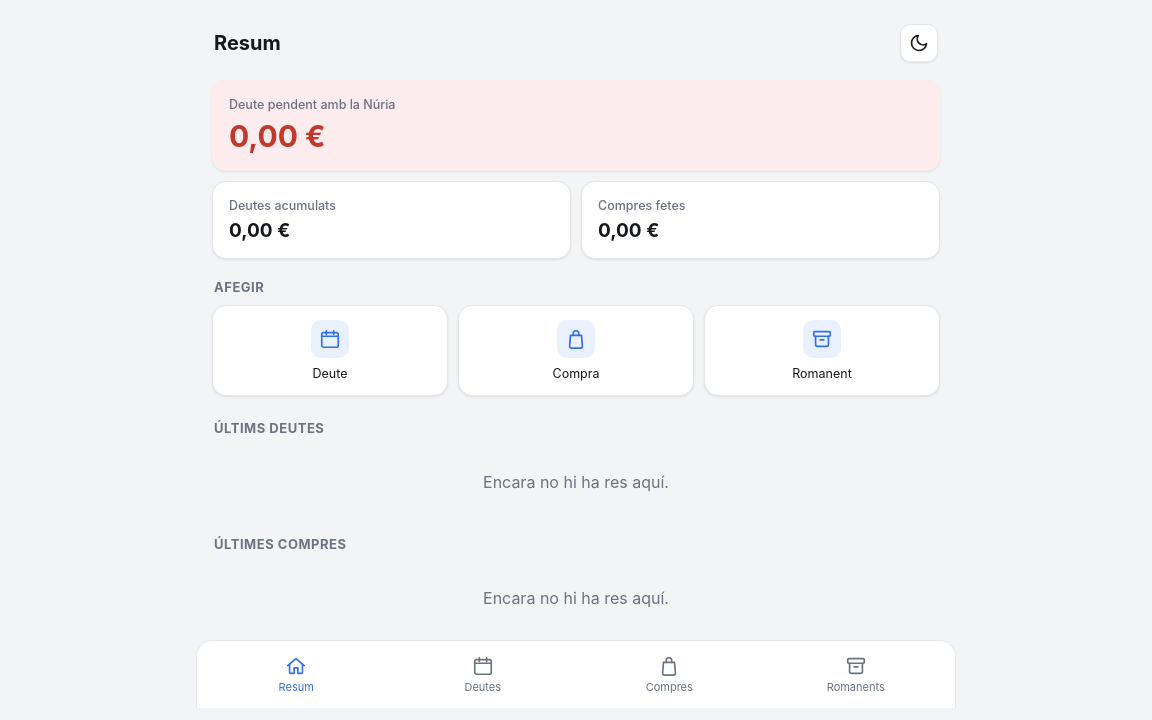
it: App (integració) › afegeix un deute des del botó gran, en blanc per defecte, i tanca el modal en desar
This screenshot has width=1152, height=720.
Expected: the text "Deutes" is shown, [464, 680, 501, 694]
Click the button "Deutes": (483, 674) [390, 649, 576, 700]
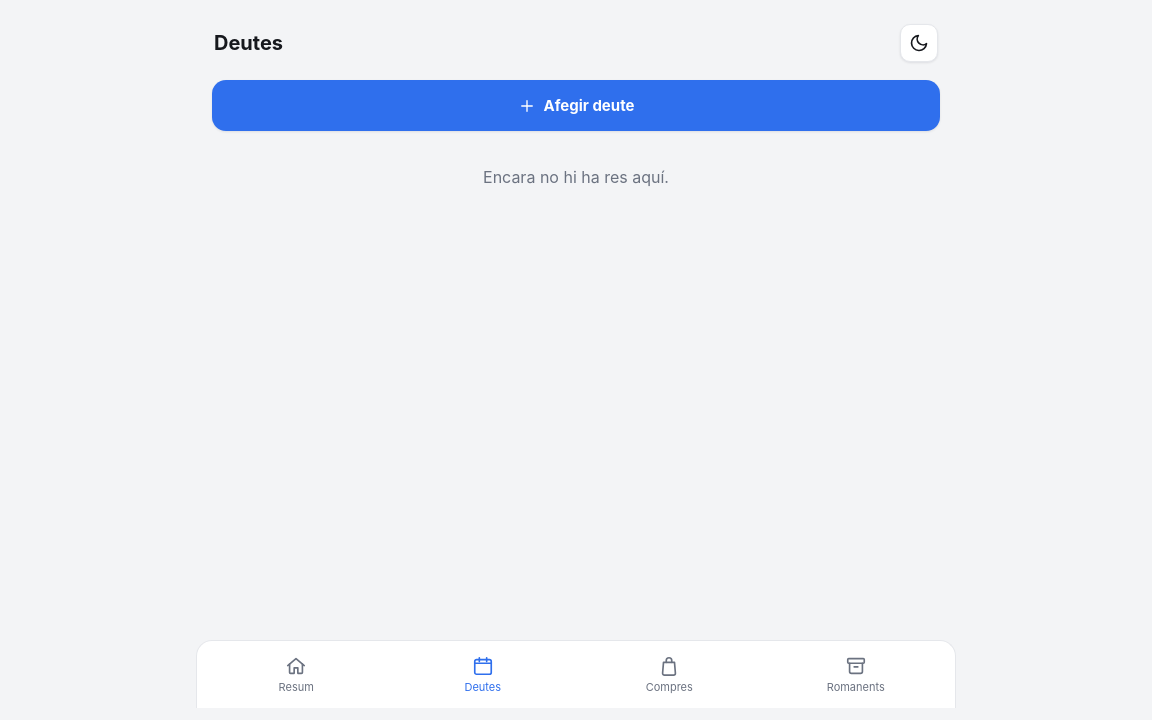
Click the button "Afegir deute": (576, 106) [212, 80, 940, 131]
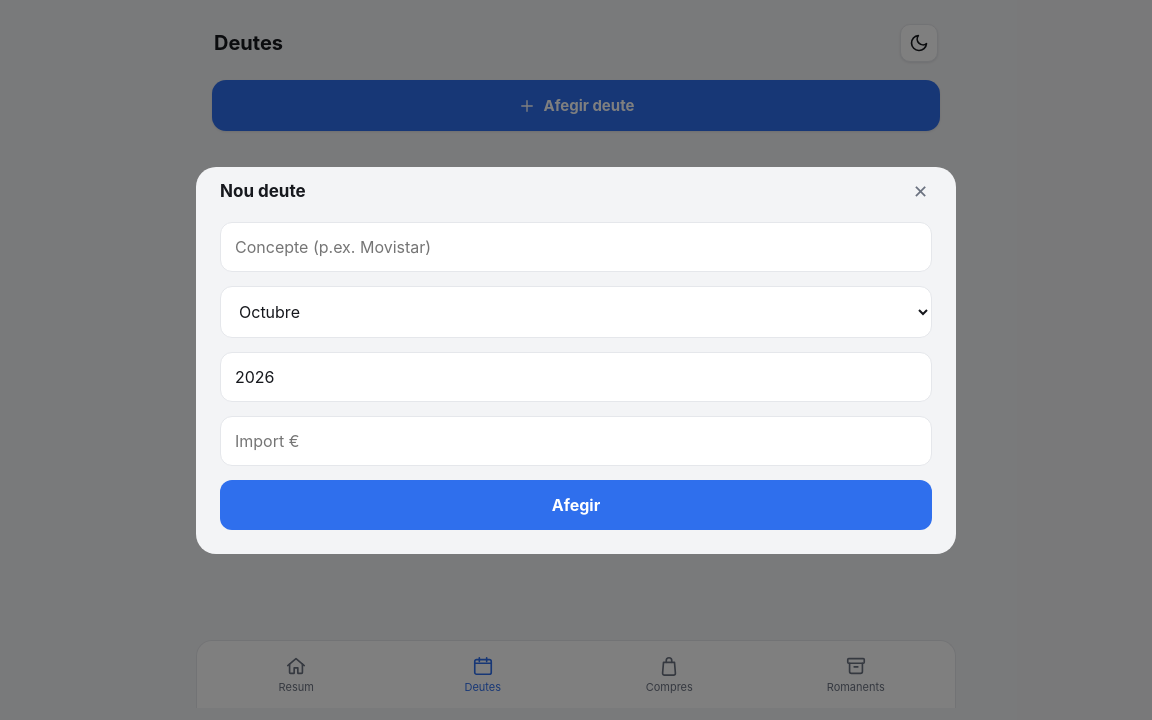
Result: the dialog "Nou deute" is shown at [196, 166, 956, 554]
Result: the field with placeholder "Concepte (p.ex. Movistar)" is empty
Result: the number field with placeholder "Import €" is not empty at [220, 416, 932, 466]
In the field with placeholder "Concepte (p.ex. Movistar)": (576, 246) [220, 222, 932, 272], type "Movistar"
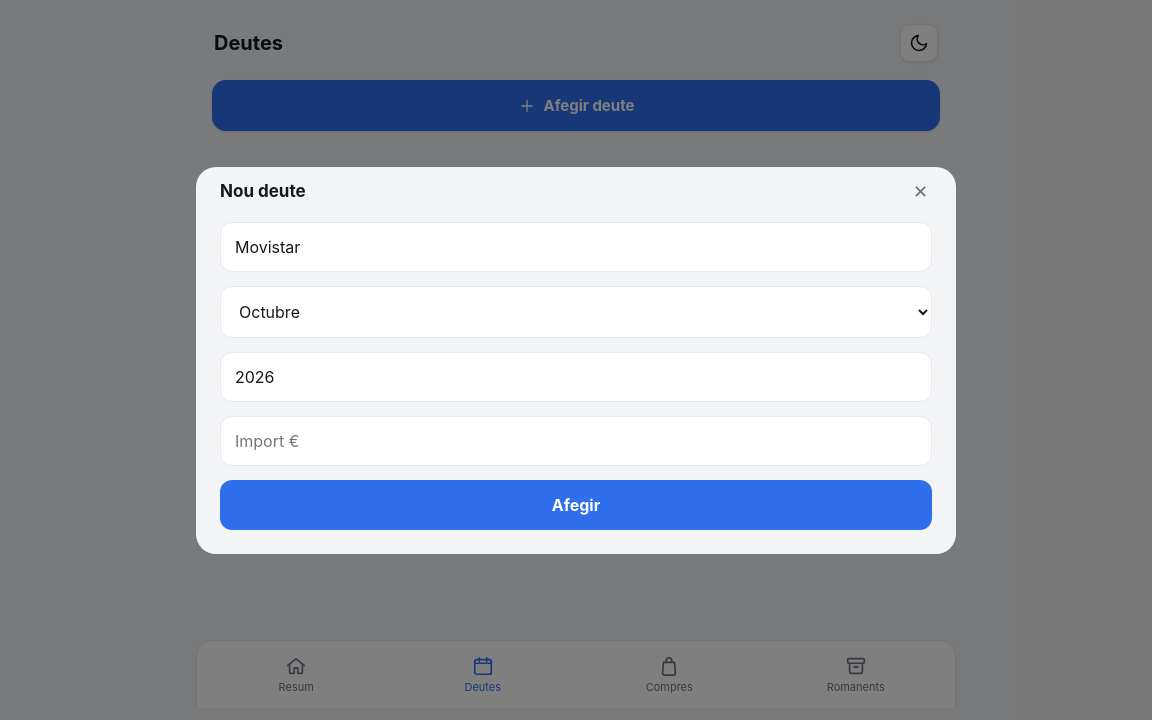
In the number field with placeholder "Import €": (576, 440) [220, 416, 932, 466], type "24"
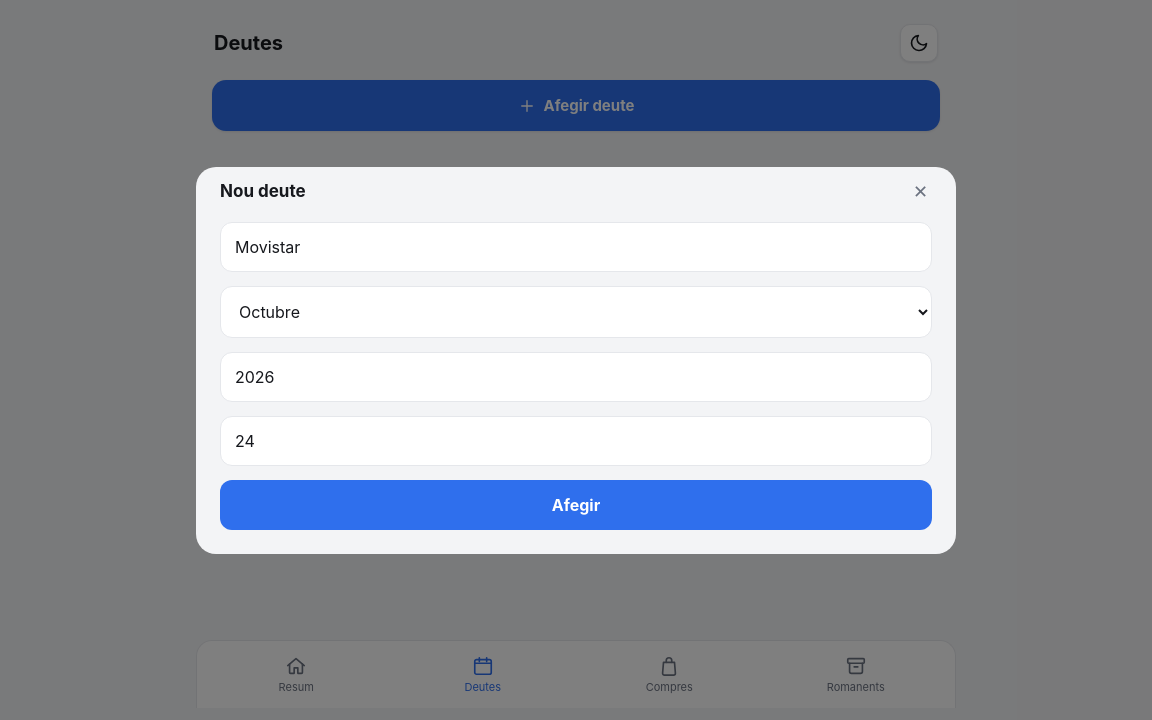
Click the button "Afegir": (576, 504) [220, 480, 932, 530]
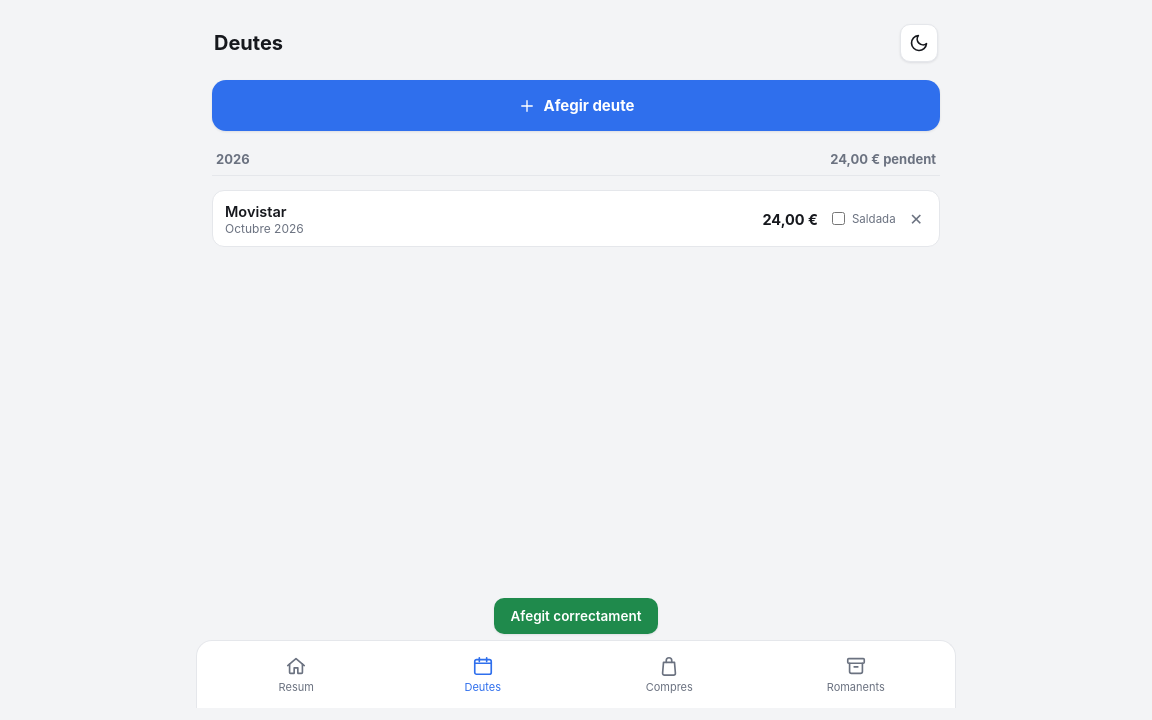
Result: the text "Movistar" is shown at [225, 203, 286, 220]
Result: the dialog is gone
Click the button "Resum": (296, 674) [203, 649, 390, 700]
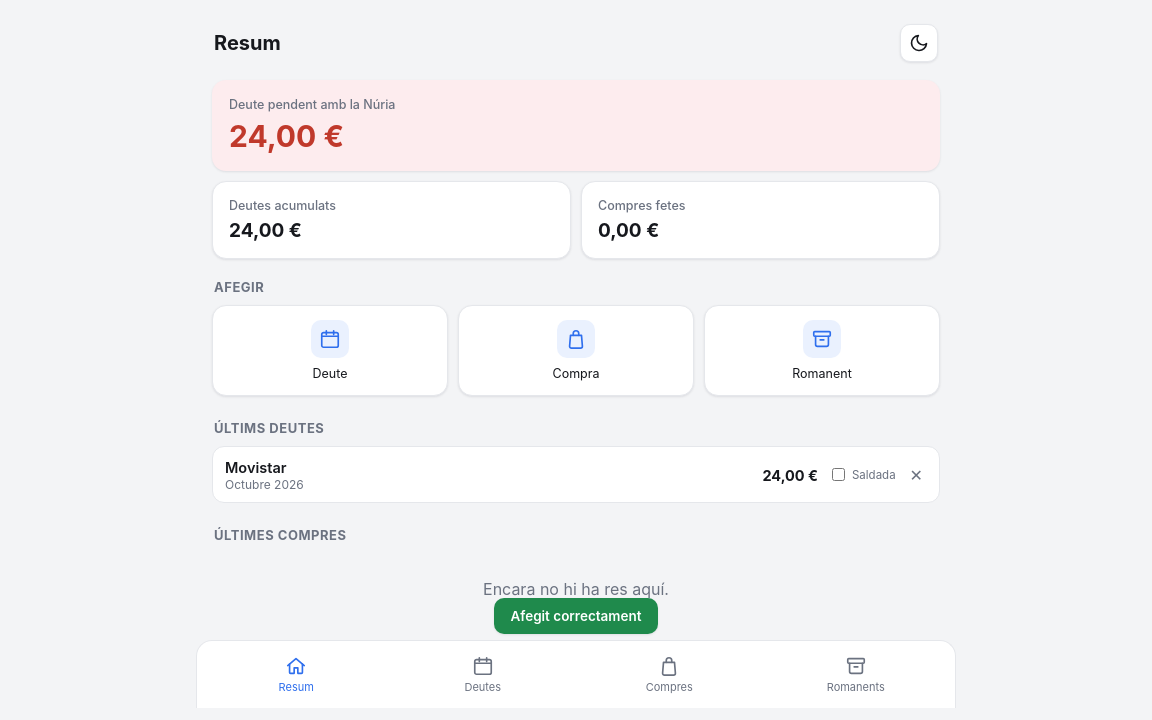
Result: the text "24,00 €" below "Deute pendent amb la Núria" is shown at [229, 118, 344, 154]
